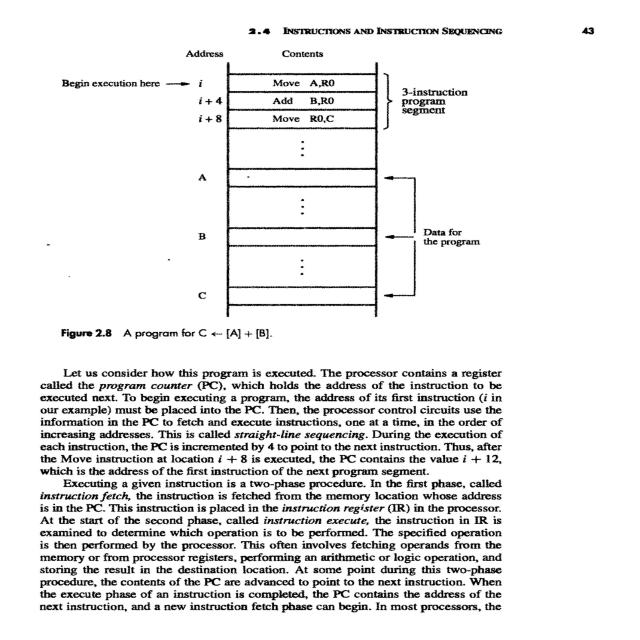diagram: (44, 41, 598, 349)
